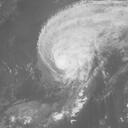cyclone: (36, 3, 115, 86)
